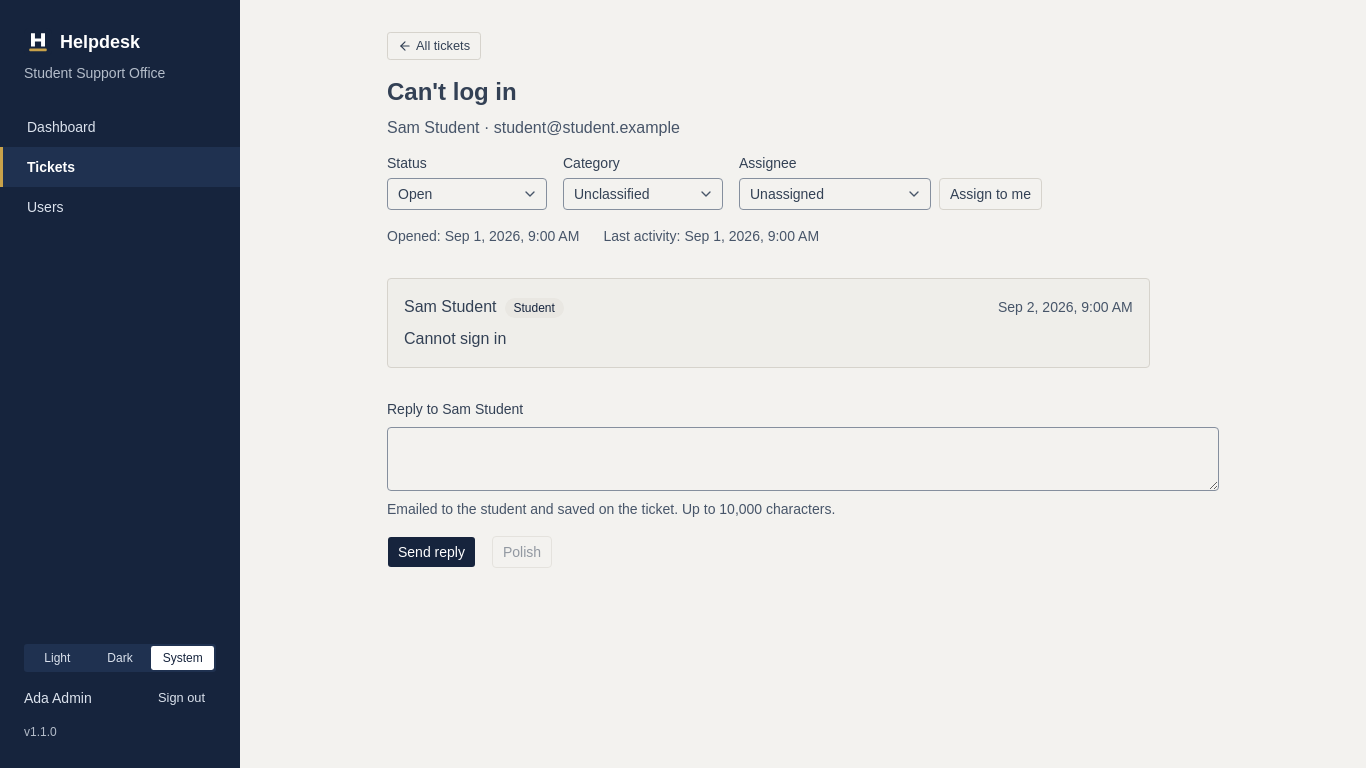
Test case: a refused classification leaves the select reading unclassified
Click the dropdown named "Category".
click(643, 194)  # box 563,178 -> 723,210
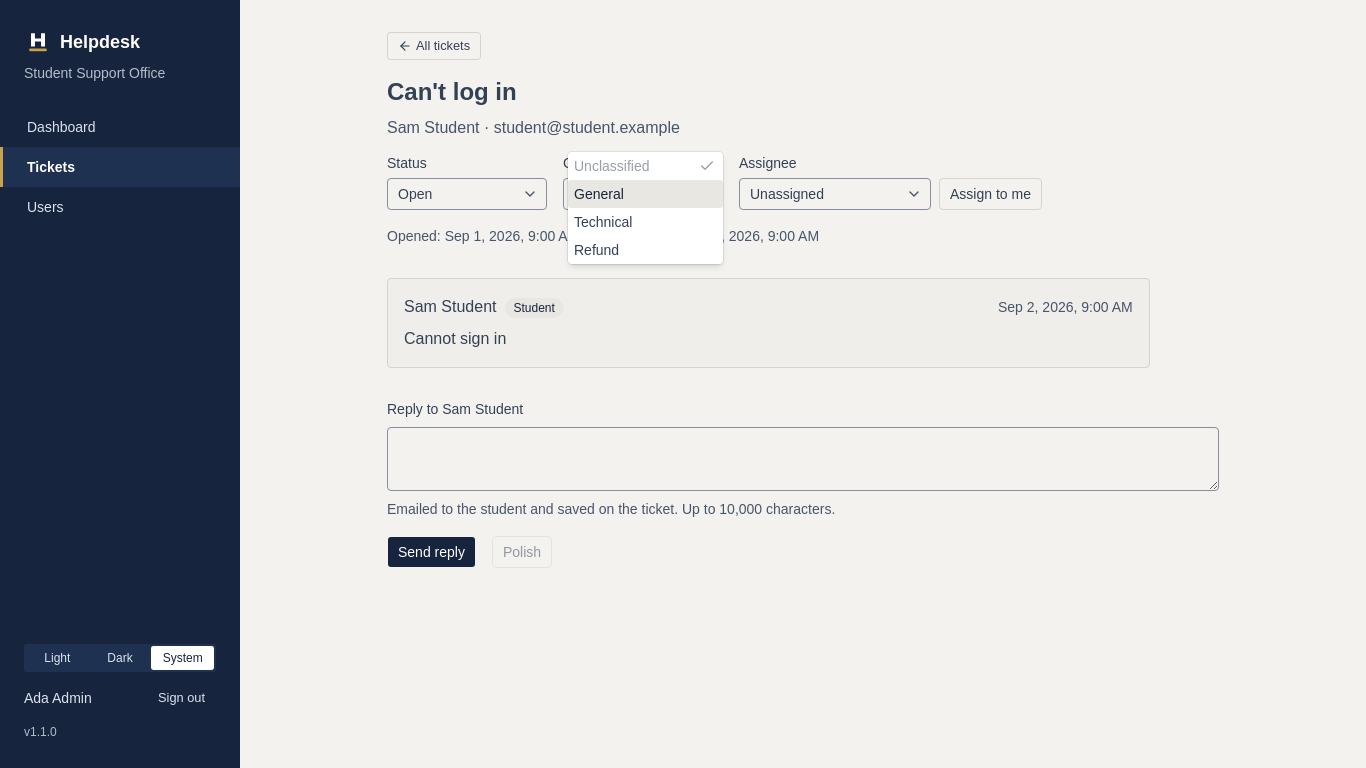
Click the option "technical".
click(603, 222)  # box 574,214 -> 632,230
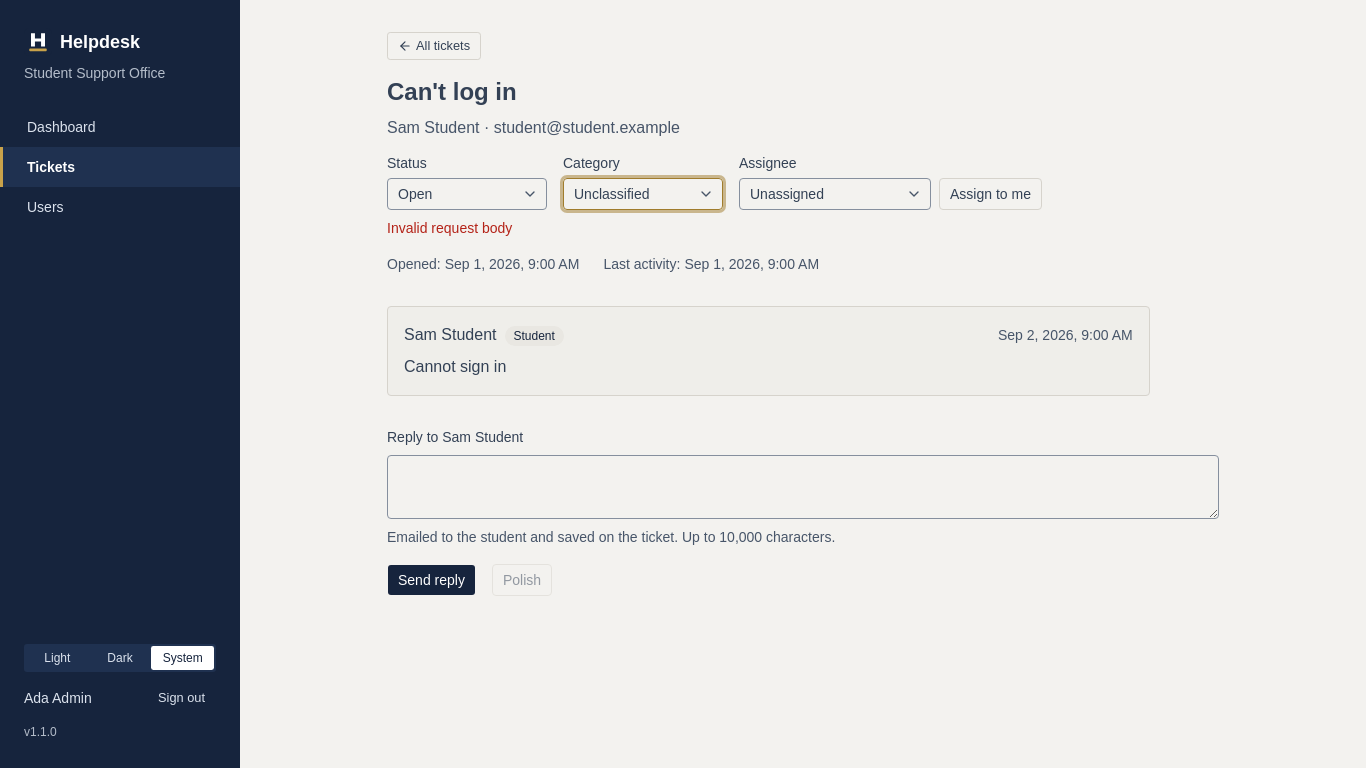
Expected: the dropdown named "Category" reads "unclassified", 563,178 -> 723,210
Expected: the message reads "Invalid request body", 387,220 -> 512,236
